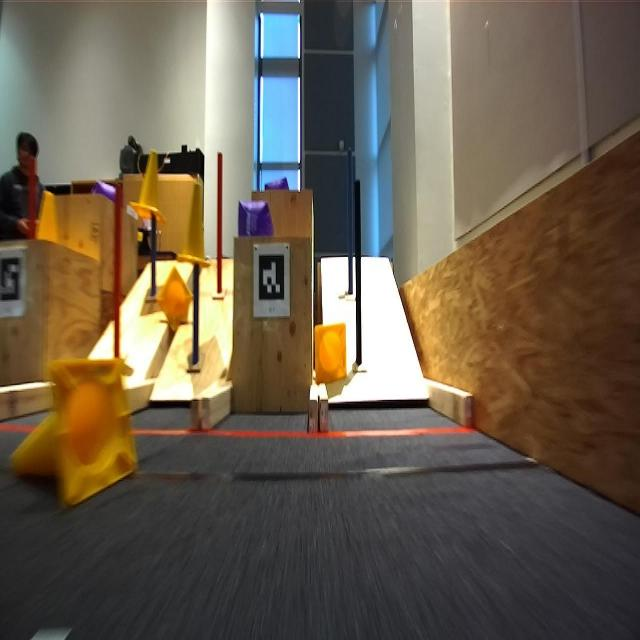frc_cone: (7, 359, 136, 511), (177, 178, 211, 266), (124, 138, 160, 220), (313, 320, 349, 390), (158, 266, 194, 332), (36, 190, 60, 244)
frc_cube: (237, 193, 273, 241), (93, 177, 120, 200), (264, 173, 290, 191)
